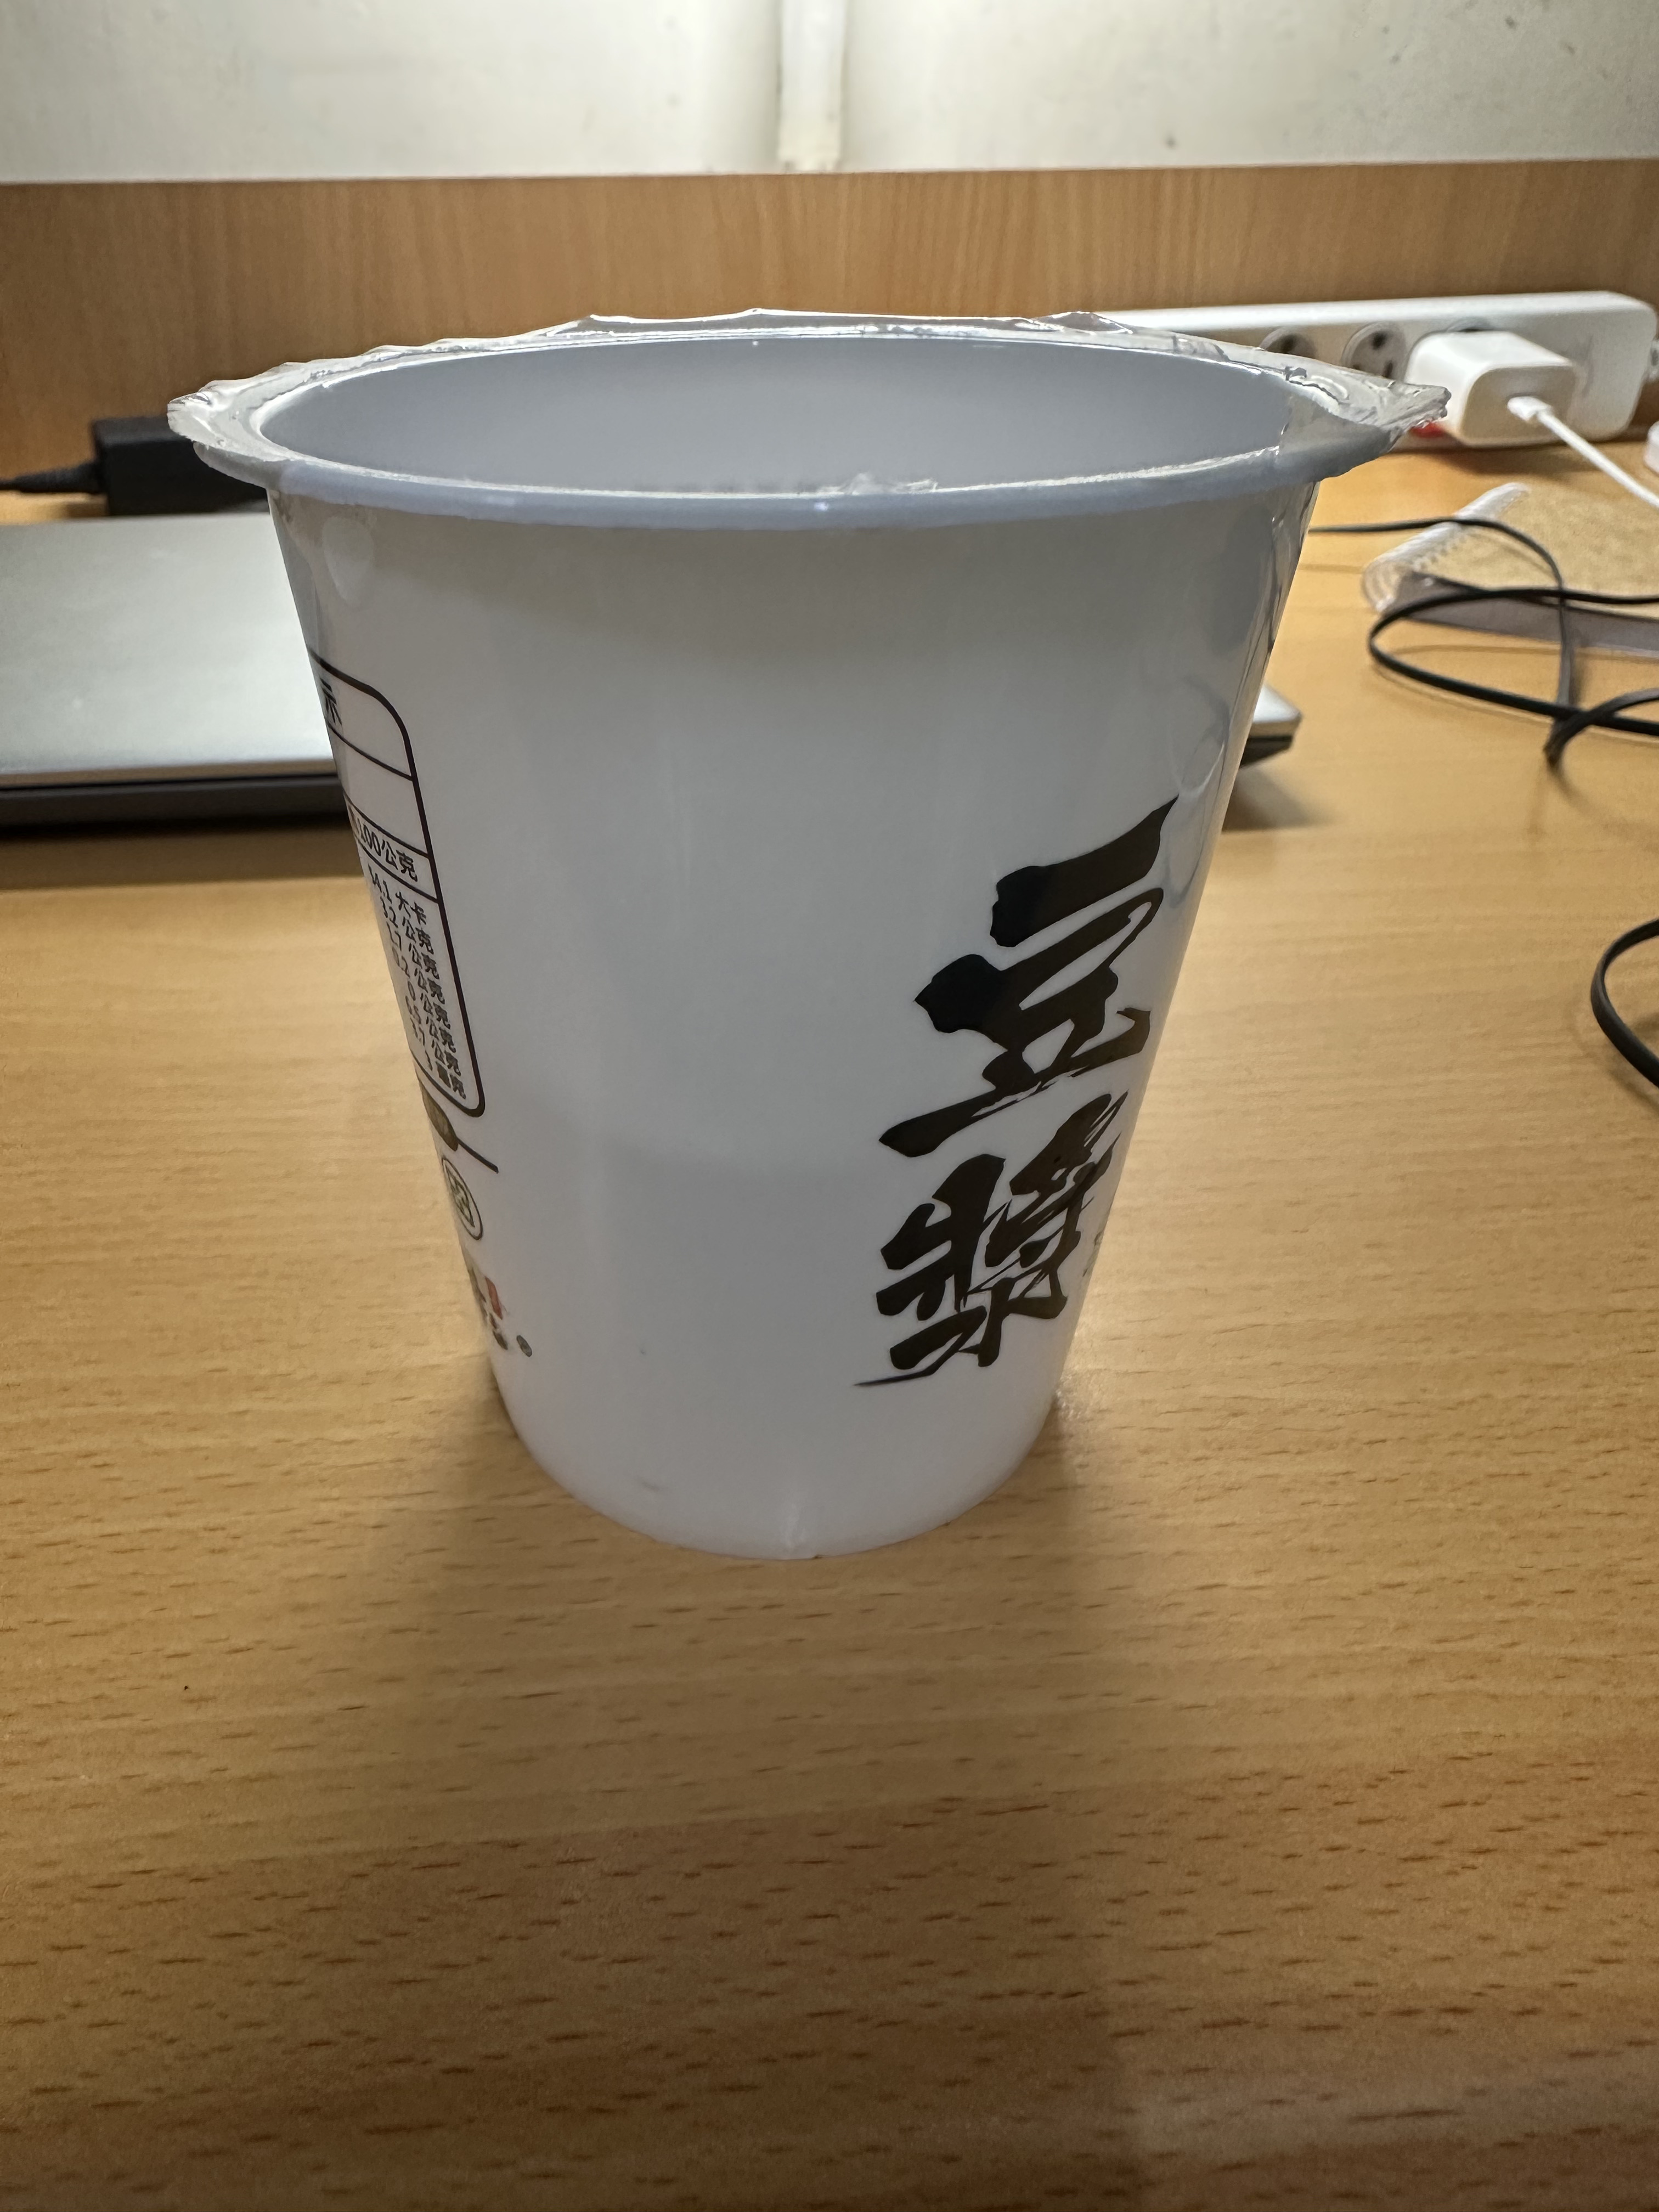cup: (155, 300, 1455, 1559)
